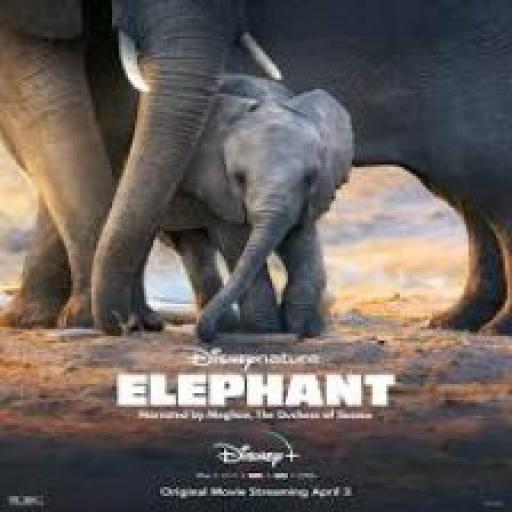Elephant: (124, 37, 412, 376)
